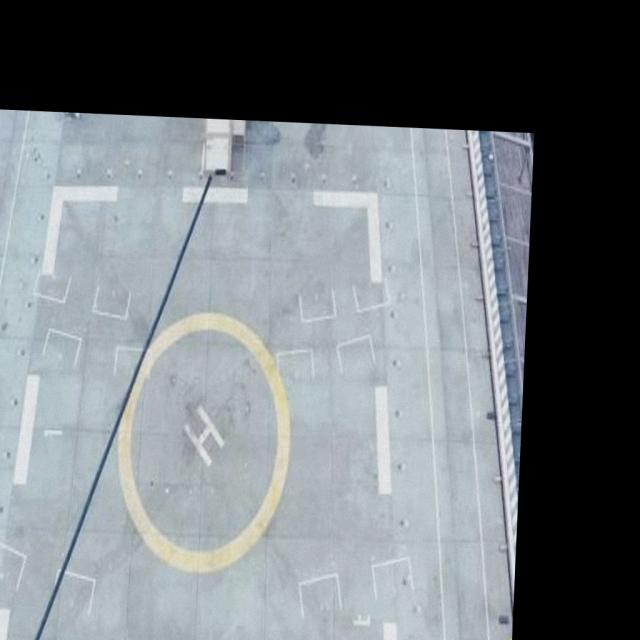helipad: (110, 304, 294, 578)
